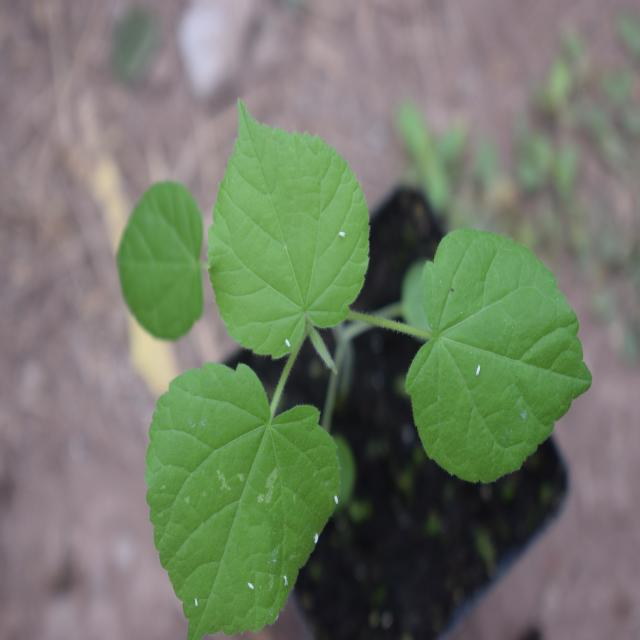abutilon theophrasti: (101, 104, 566, 621)
